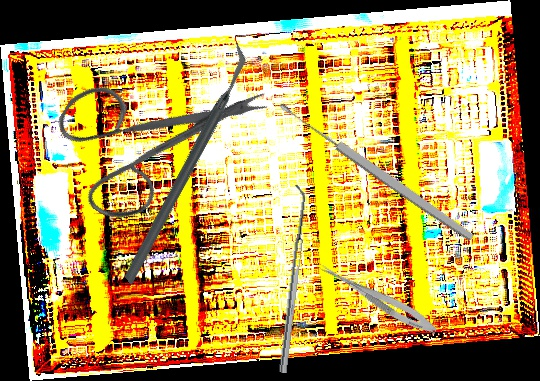Chopper: (54, 42, 315, 286)
Iris Scissors: (27, 4, 275, 259)
Micro Scissor: (315, 260, 441, 339)
Spatula Surgical: (271, 184, 310, 374)
Surgical Spoon: (276, 98, 477, 245)
